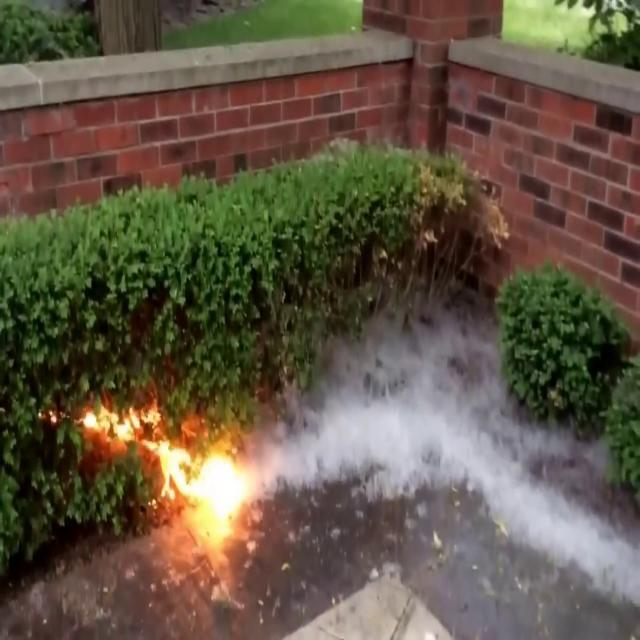Fire: (81, 390, 257, 538), (76, 392, 158, 452)
Smoke: (273, 309, 591, 536)
